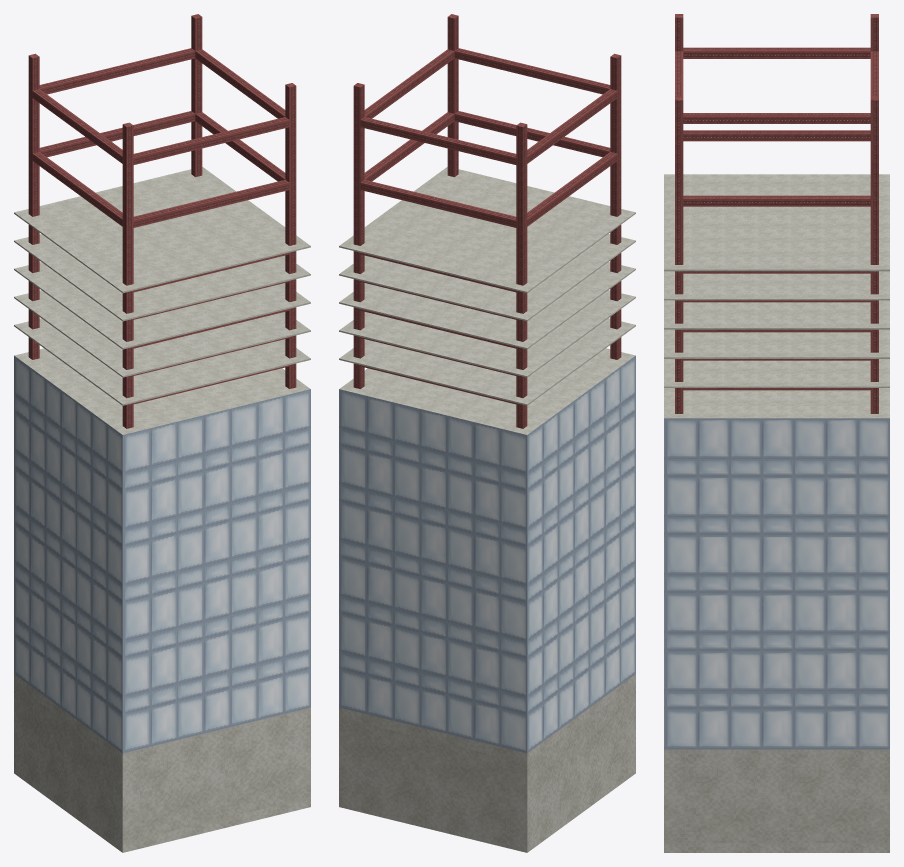
File: NyBuild_00.fbx
The picture shows the model from 3 angles, left to right: view 1: azimuth 30°, elevation 25°; view 2: azimuth 150°, elevation 25°; view 3: azimuth 270°, elevation 25°; orthographic projection. The views are drawn at different scales.
Parts seen in each view (by area): view 1: Плоскость; view 2: Плоскость; view 3: Плоскость.
Part boxes in pixels (<box>): Плоскость: <box>14,14,310,852</box>; Плоскость: <box>339,14,635,852</box>; Плоскость: <box>664,14,889,852</box>.
Size of the model in its own units: 420 by 1535 by 420.
3 materials, 3 textured.
